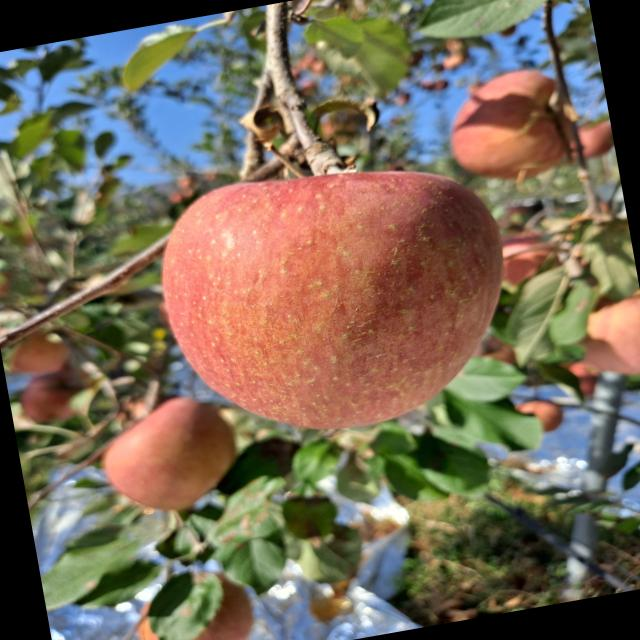fresh: (143, 131, 538, 468)
